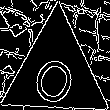O_NE: (28, 39, 84, 105)
